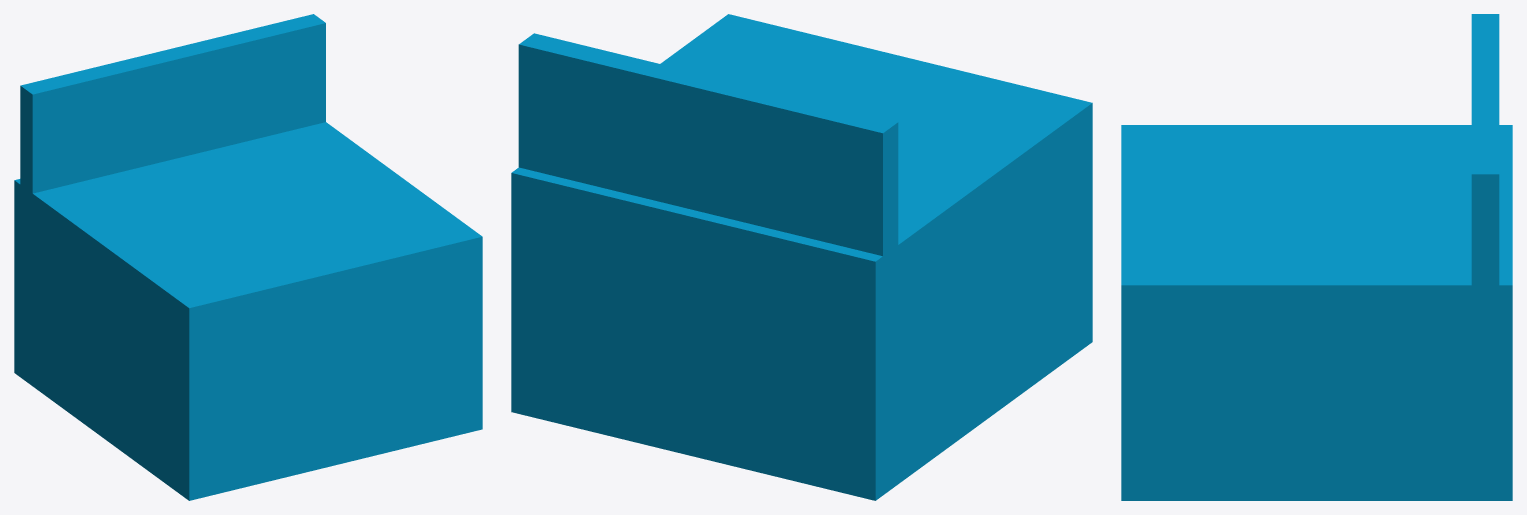
Rendered from SM_Wall.fbx.
The picture shows the model from 3 angles, left to right: view 1: azimuth 30°, elevation 25°; view 2: azimuth 150°, elevation 25°; view 3: azimuth 270°, elevation 25°; orthographic projection. The views are drawn at different scales.
Parts seen in each view (by area): view 1: pasted__pCube1, pasted__pCube2; view 2: pasted__pCube1, pasted__pCube2; view 3: pasted__pCube1, pasted__pCube2.
Part boxes in pixels (x1,y1,x2,y2): pasted__pCube1: [14, 122, 482, 500]; pasted__pCube2: [20, 14, 325, 279]; pasted__pCube1: [511, 14, 1092, 500]; pasted__pCube2: [518, 33, 898, 363]; pasted__pCube1: [1121, 125, 1512, 500]; pasted__pCube2: [1471, 14, 1499, 381].
Bounding box in the file's own units: 225 × 214 × 232.
